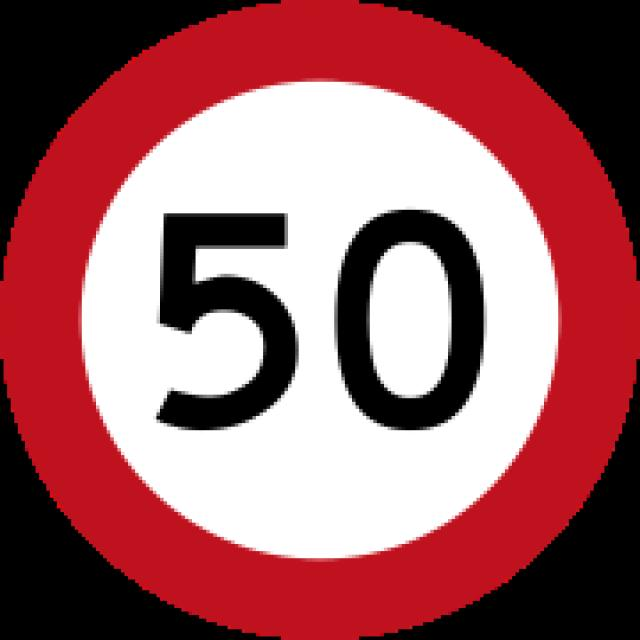Speed Limit -50-: (128, 189, 504, 451)
